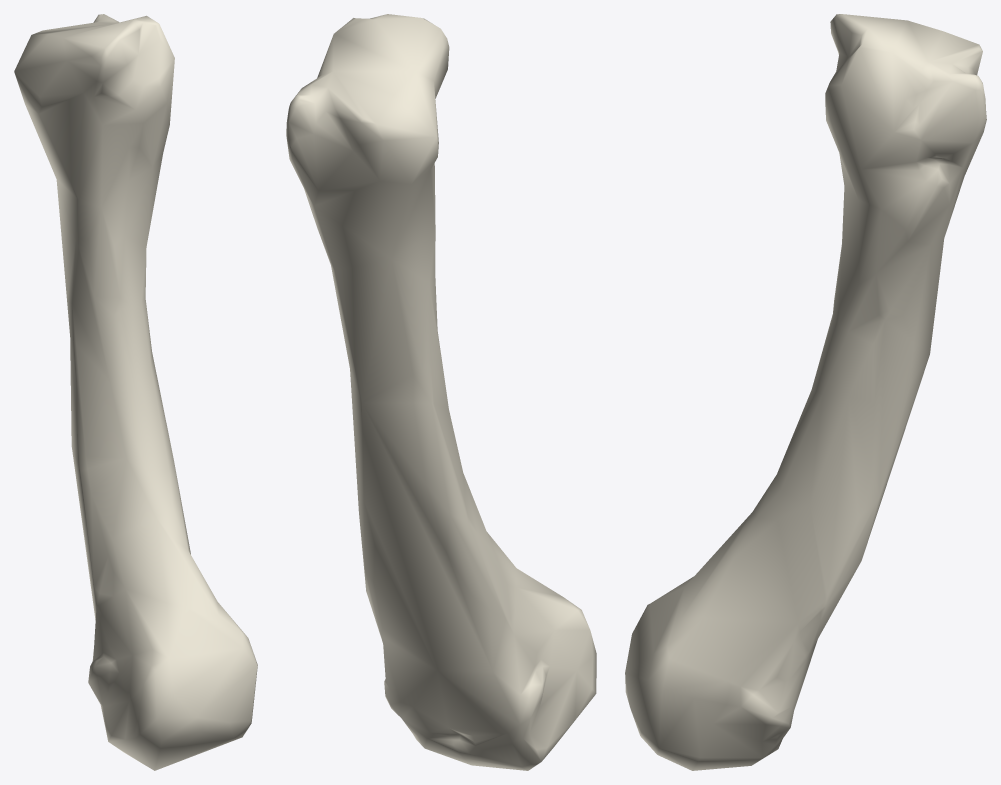
3 views of the same model, side by side, from view 1: azimuth 30°, elevation 25°; view 2: azimuth 150°, elevation 25°; view 3: azimuth 270°, elevation 25° (orthographic). The views are drawn at different scales.
Parts seen in each view (by area): view 1: ZA_72081f4dbc237077; view 2: ZA_72081f4dbc237077; view 3: ZA_72081f4dbc237077.
Boxes of the visible parts, x1=… form: ZA_72081f4dbc237077: x1=14, y1=14, x2=257, y2=770; ZA_72081f4dbc237077: x1=286, y1=14, x2=596, y2=770; ZA_72081f4dbc237077: x1=625, y1=14, x2=986, y2=770.
Bounding box in the file's own units: 0.0131 × 0.0621 × 0.0271.
